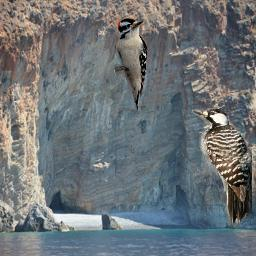Woodpecker: (192, 108, 252, 228), (114, 18, 147, 111)
